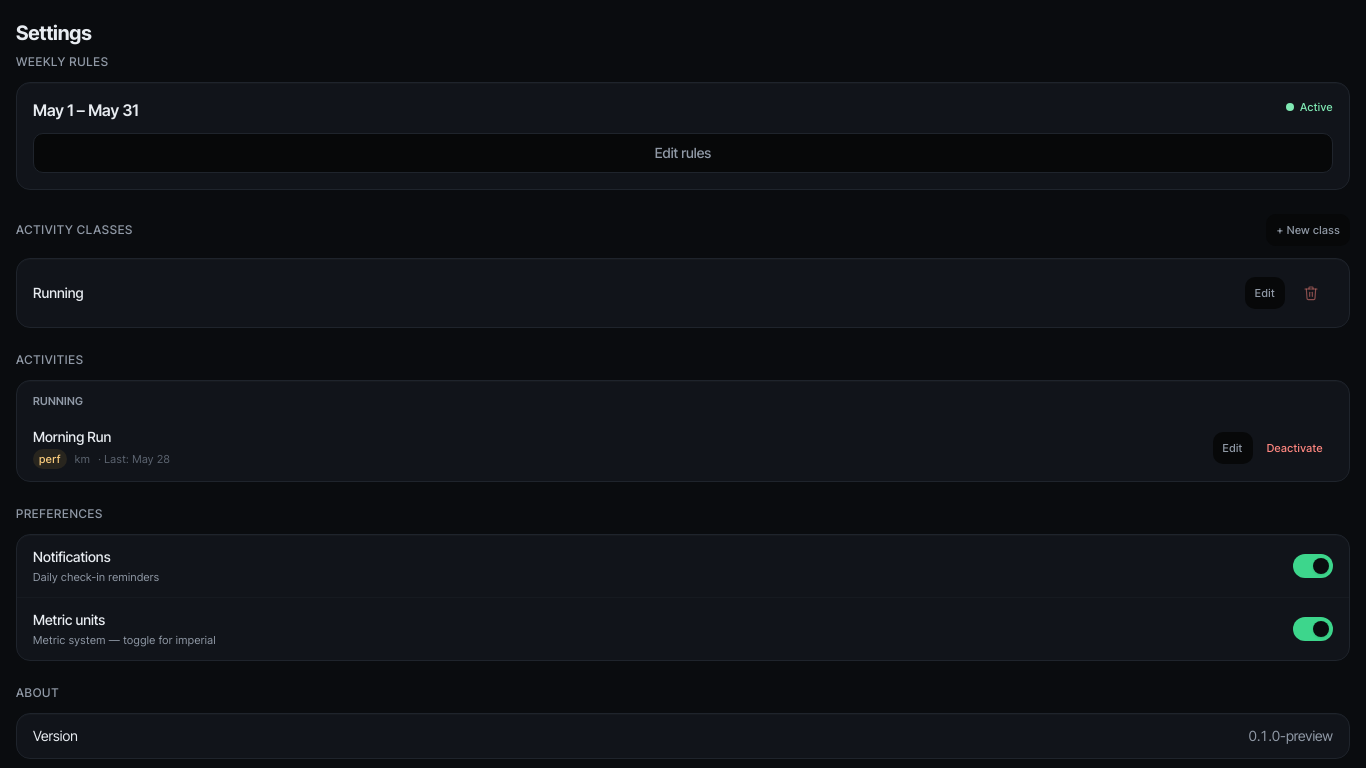
Test: SettingsScreen — S25.F8 activity class edit and delete › shows API message on 409 when activities have logs
Click the button named "delete running" at coordinates (1311, 293), box 1289,271 -> 1333,315
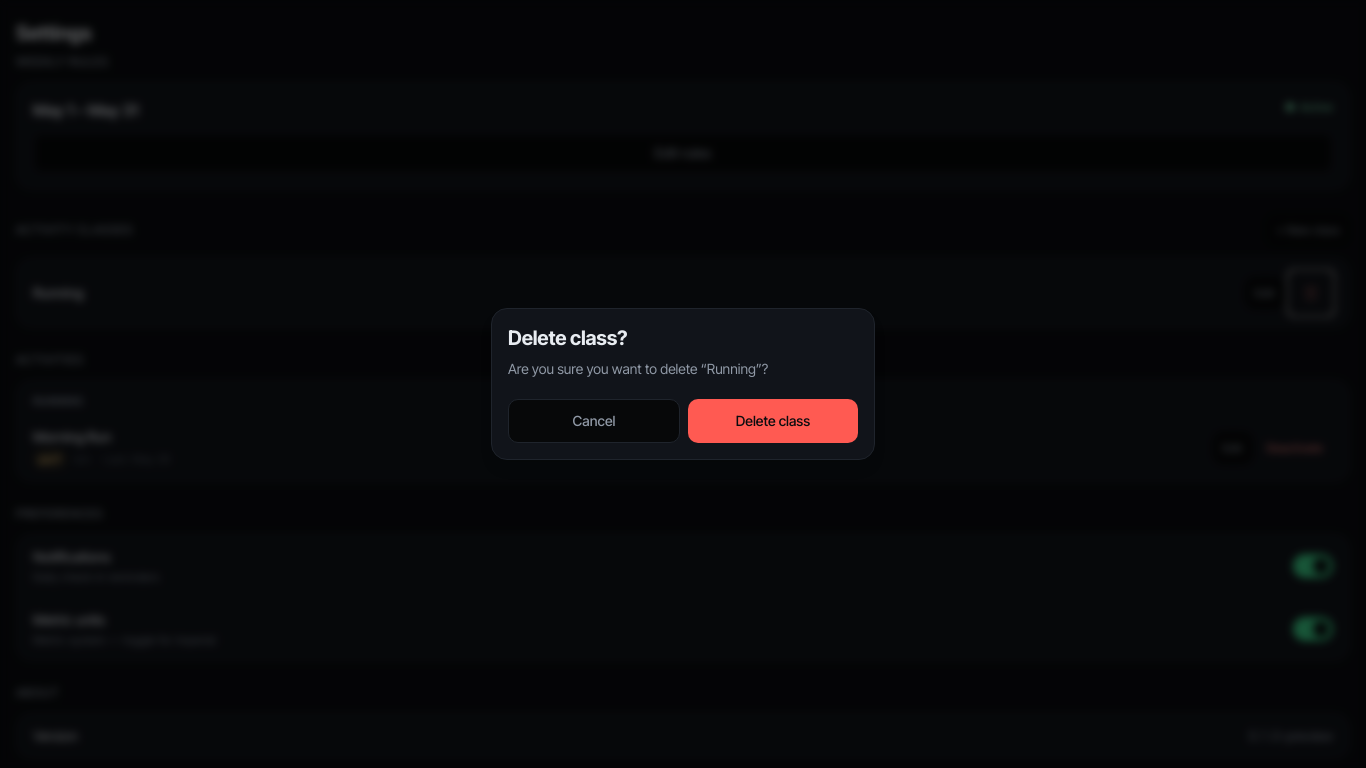
Click the button "Delete class" at coordinates (773, 421), box 688,399 -> 858,443
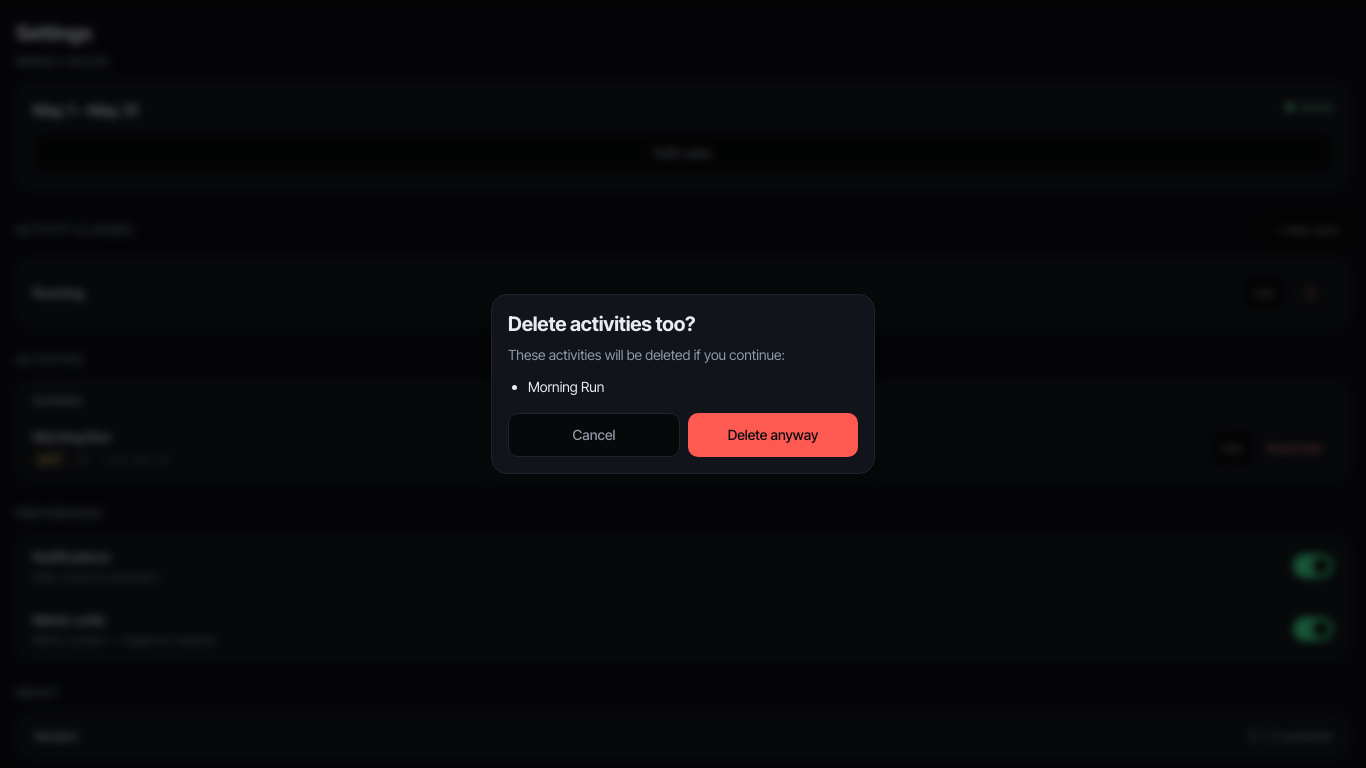
Click the button "Delete anyway" at coordinates (773, 435), box 688,413 -> 858,457
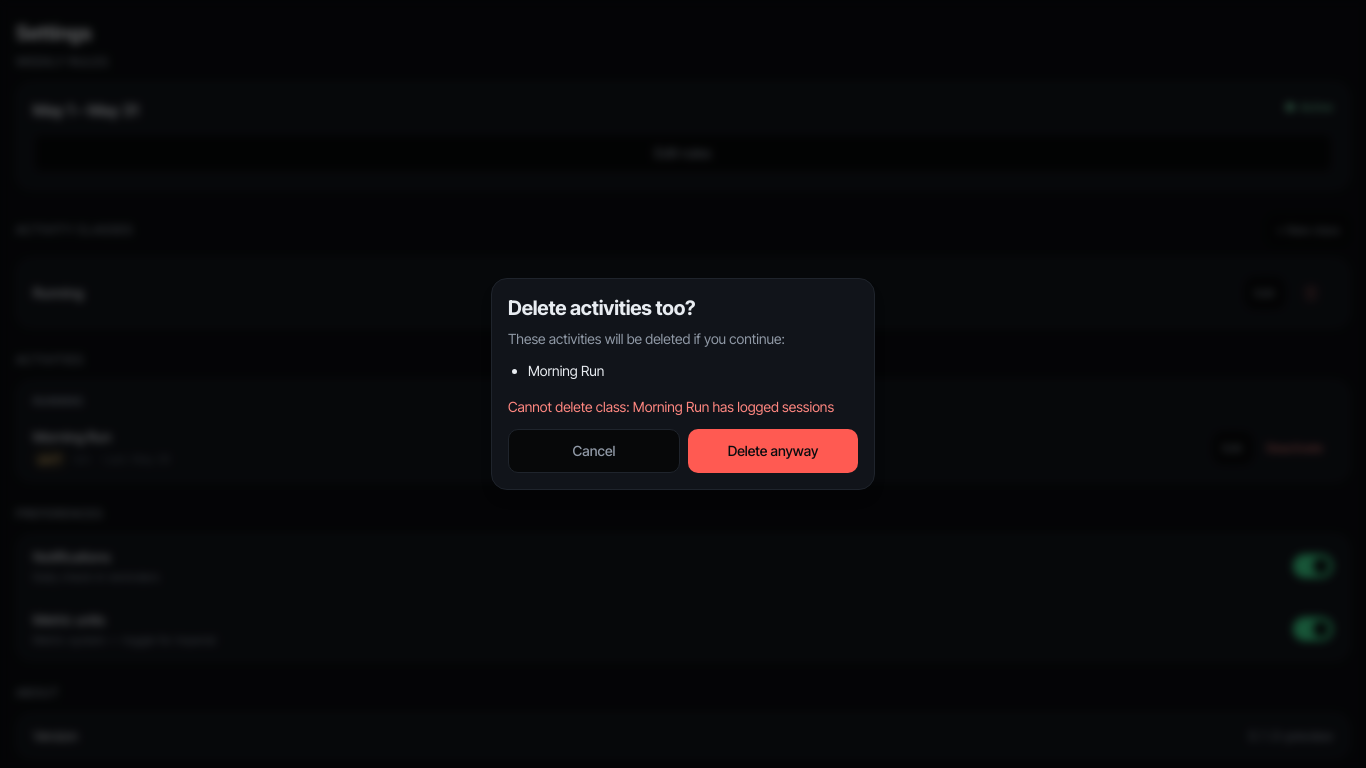
Now the text "Cannot delete class: Morning Run has logged sessions" is shown, box 508,397 -> 858,417
